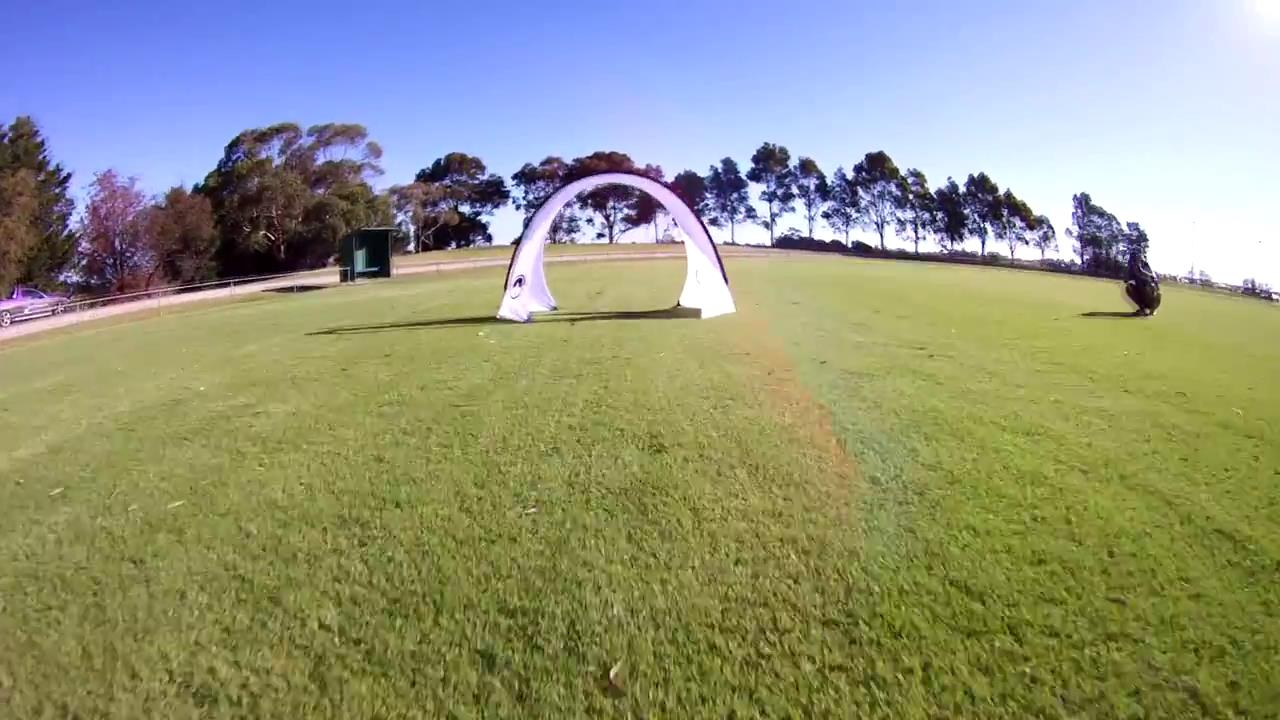gate: (491, 171, 739, 323)
